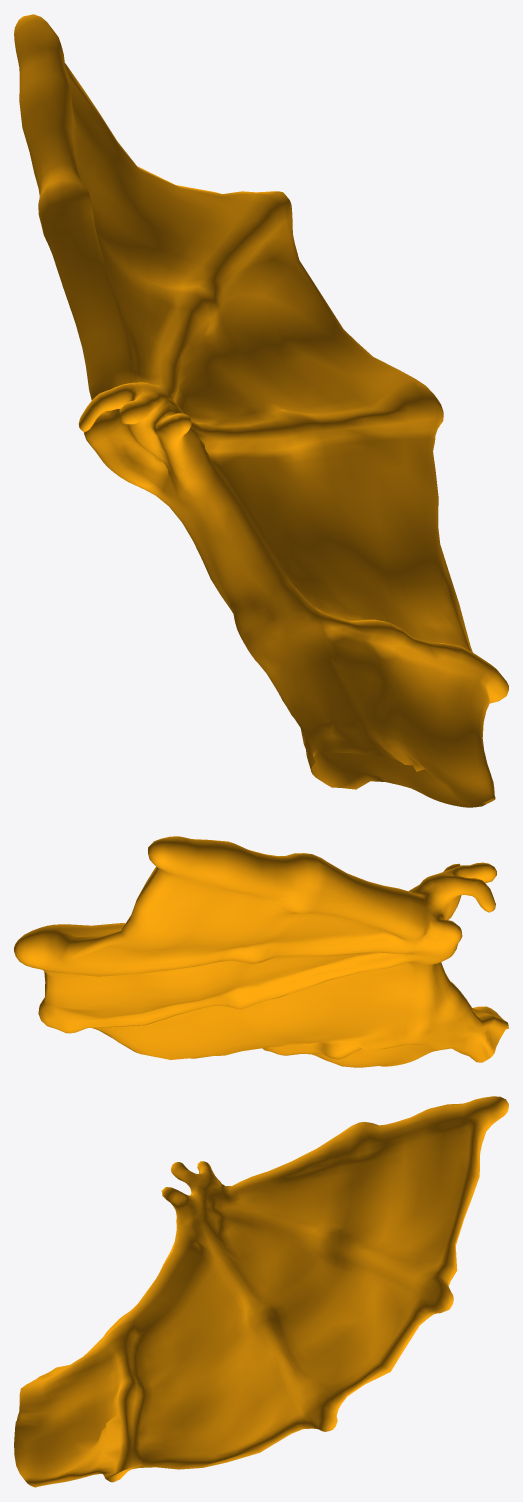
File: Ala derecha.obj
The picture shows the model from 3 angles, top to bottom: view 1: azimuth 30°, elevation 25°; view 2: azimuth 150°, elevation 25°; view 3: azimuth 270°, elevation 25°; orthographic projection. The views are drawn at different scales.
Visible parts, largest first — view 1: Ala_derecha; view 2: Ala_derecha; view 3: Ala_derecha.
Part boxes in pixels (left/top/right/bottom): Ala_derecha: left=14, top=14, right=508, bottom=807; Ala_derecha: left=14, top=836, right=508, bottom=1067; Ala_derecha: left=14, top=1096, right=508, bottom=1487.
Size of the model in its own units: 6.31 by 7.33 by 9.12.
1 material, 1 textured.
